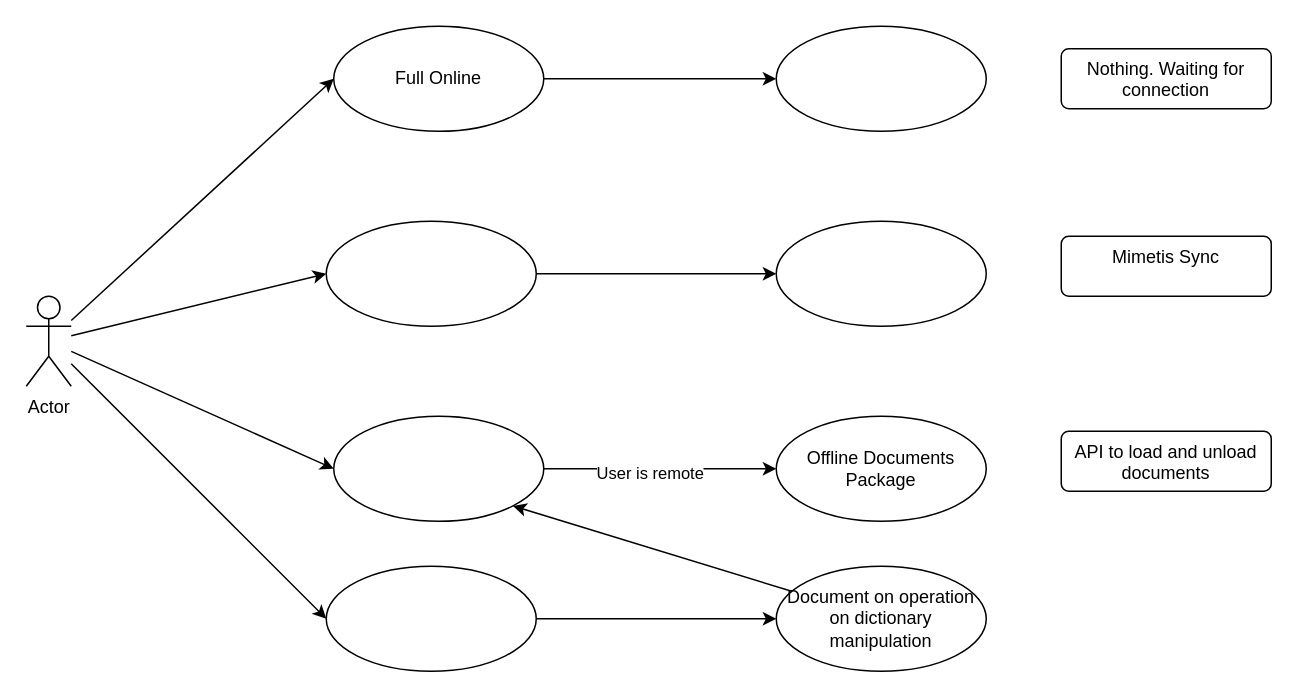
The diagram is 1298 pixels wide and 698 high, and some of its shapes have lost their labels. Here are the shapes that lost their labels. From the top down, the centre of each, then its label:
(880,78): Temporary Offline
(430,273): Offline dictionaries
(438,468): Planned Offline Documents
(430,618): Offline dictionary manipulations
